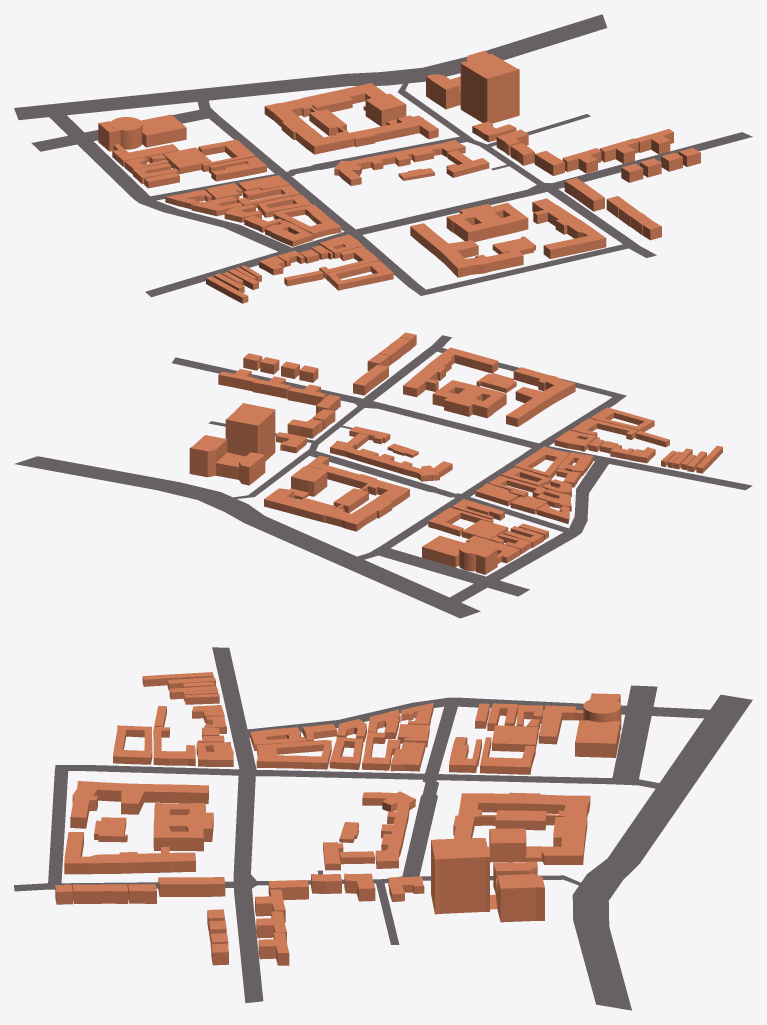
File: infrastructure.gltf
The picture shows the model from 3 angles, top to bottom: view 1: azimuth 30°, elevation 25°; view 2: azimuth 150°, elevation 25°; view 3: azimuth 270°, elevation 25°; orthographic projection. The views are drawn at different scales.
Parts seen in each view (by area): view 1: Plane.002, cesty; view 2: Plane.002, cesty; view 3: Plane.002, cesty.
Part boxes in pixels (x1,y1,x2,y2): Plane.002: [98, 50, 700, 303]; cesty: [14, 14, 752, 297]; Plane.002: [189, 332, 722, 574]; cesty: [15, 335, 752, 618]; Plane.002: [55, 672, 621, 965]; cesty: [14, 647, 752, 1010].
Size of the model in its own units: 7.85 by 0.5573 by 6.75.
